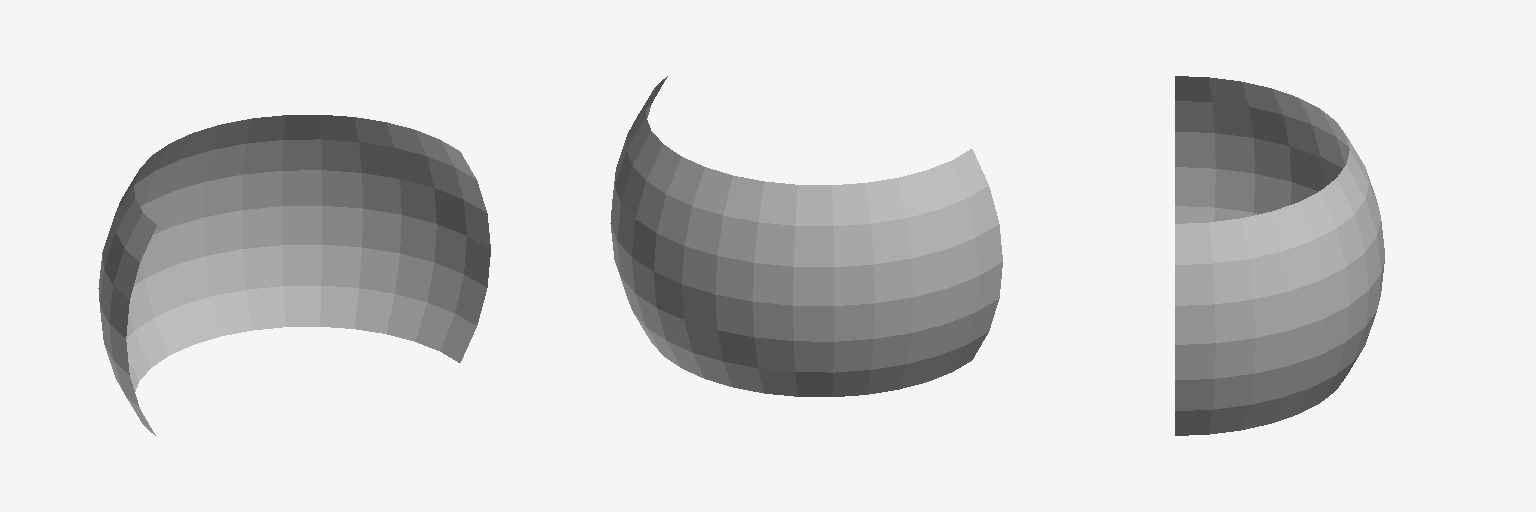
Rendered from ForceField.obj.
The picture shows the model from 3 angles: view 1: azimuth 30°, elevation 25°; view 2: azimuth 150°, elevation 25°; view 3: azimuth 270°, elevation 25°; orthographic projection.
Visible parts, largest first — view 1: ForceField_Sphere; view 2: ForceField_Sphere; view 3: ForceField_Sphere.
Boxes of the visible parts, x1=… form: ForceField_Sphere: x1=98, y1=115, x2=490, y2=435; ForceField_Sphere: x1=610, y1=76, x2=1002, y2=396; ForceField_Sphere: x1=1175, y1=76, x2=1384, y2=435.
Bounding box in the file's own units: 2 × 1.11 × 1.